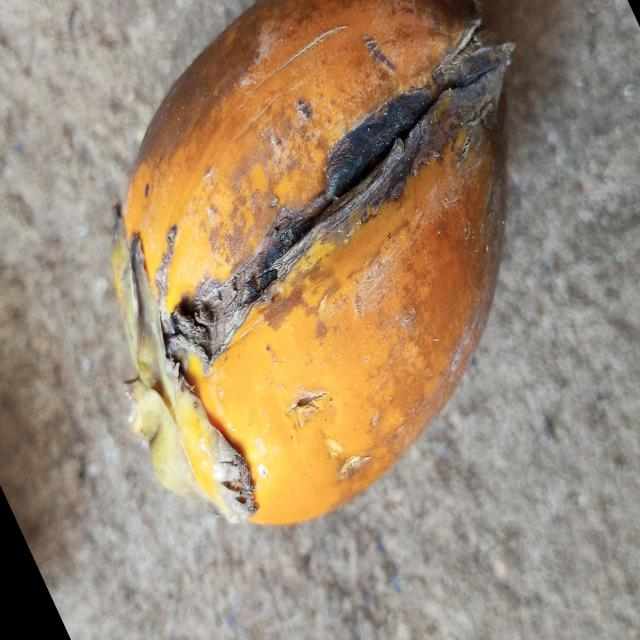damaged: (113, 0, 515, 524)
